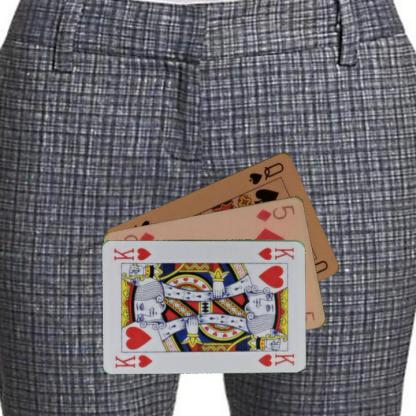5d: (254, 202, 296, 223)
Kh: (113, 352, 154, 369), (256, 244, 296, 260)
Qs: (246, 159, 286, 186)
